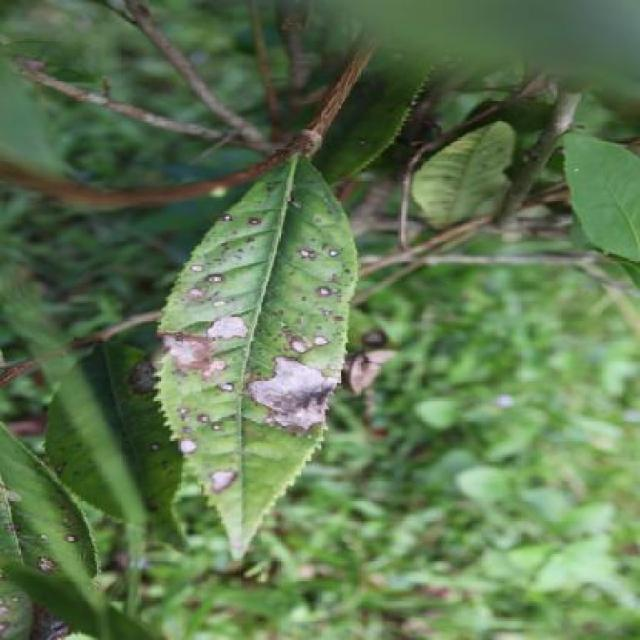Black rot of tea: (117, 155, 378, 548)
